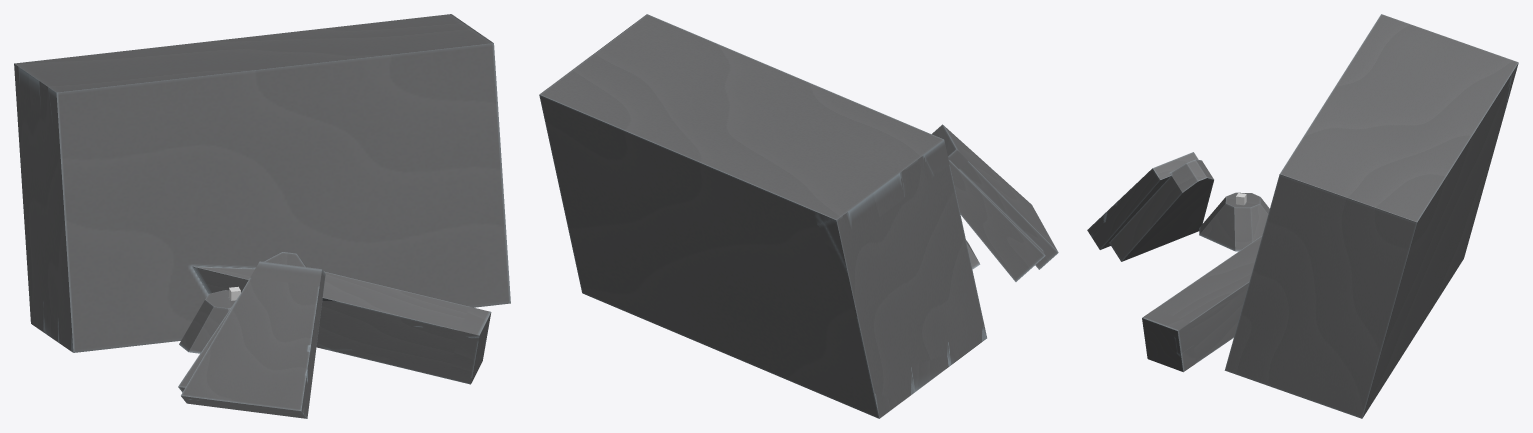
The model's file is Lake_Valley_Course.fbx_River_1st_Ostacle_Course.fbx_BASTION_PLACE.fbx.
3 renders of one model, left to right at view 1: azimuth 30°, elevation 25°; view 2: azimuth 150°, elevation 25°; view 3: azimuth 270°, elevation 25°, orthographic. The views are drawn at different scales.
Visible parts, largest first — view 1: Cube.012, Cube.023, Cube.004, Cube.025, Cube.024; view 2: Cube.012, Cube.024, Cube.023; view 3: Cube.012, Cube.004, Cube.024, Cube.025, Cube.023.
Part boxes in pixels (x1,y1,x2,y2): Cube.012: (14,14,510,352); Cube.023: (181,261,325,418); Cube.004: (192,266,491,384); Cube.025: (179,290,235,353); Cube.024: (178,252,306,392); Cube.012: (539,14,986,418); Cube.024: (948,159,1045,281); Cube.023: (932,124,1058,269); Cube.012: (1224,14,1518,418); Cube.004: (1142,236,1261,372); Cube.024: (1109,159,1213,261); Cube.025: (1199,192,1269,251); Cube.023: (1087,152,1198,249).
Bounding box in the file's own units: 498754 × 300518 × 499682.
Materials: 1 (1 with a texture image).
